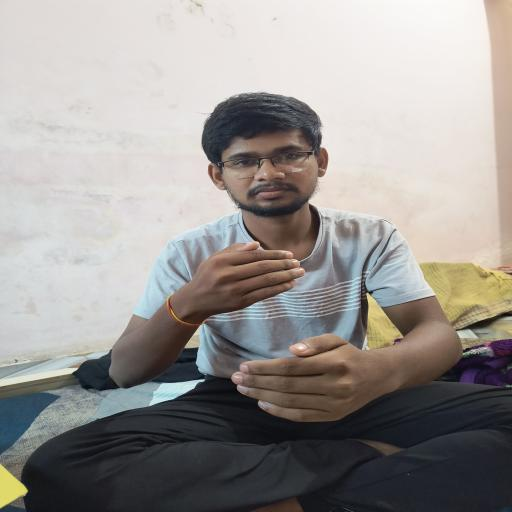Good: (161, 240, 385, 436)
